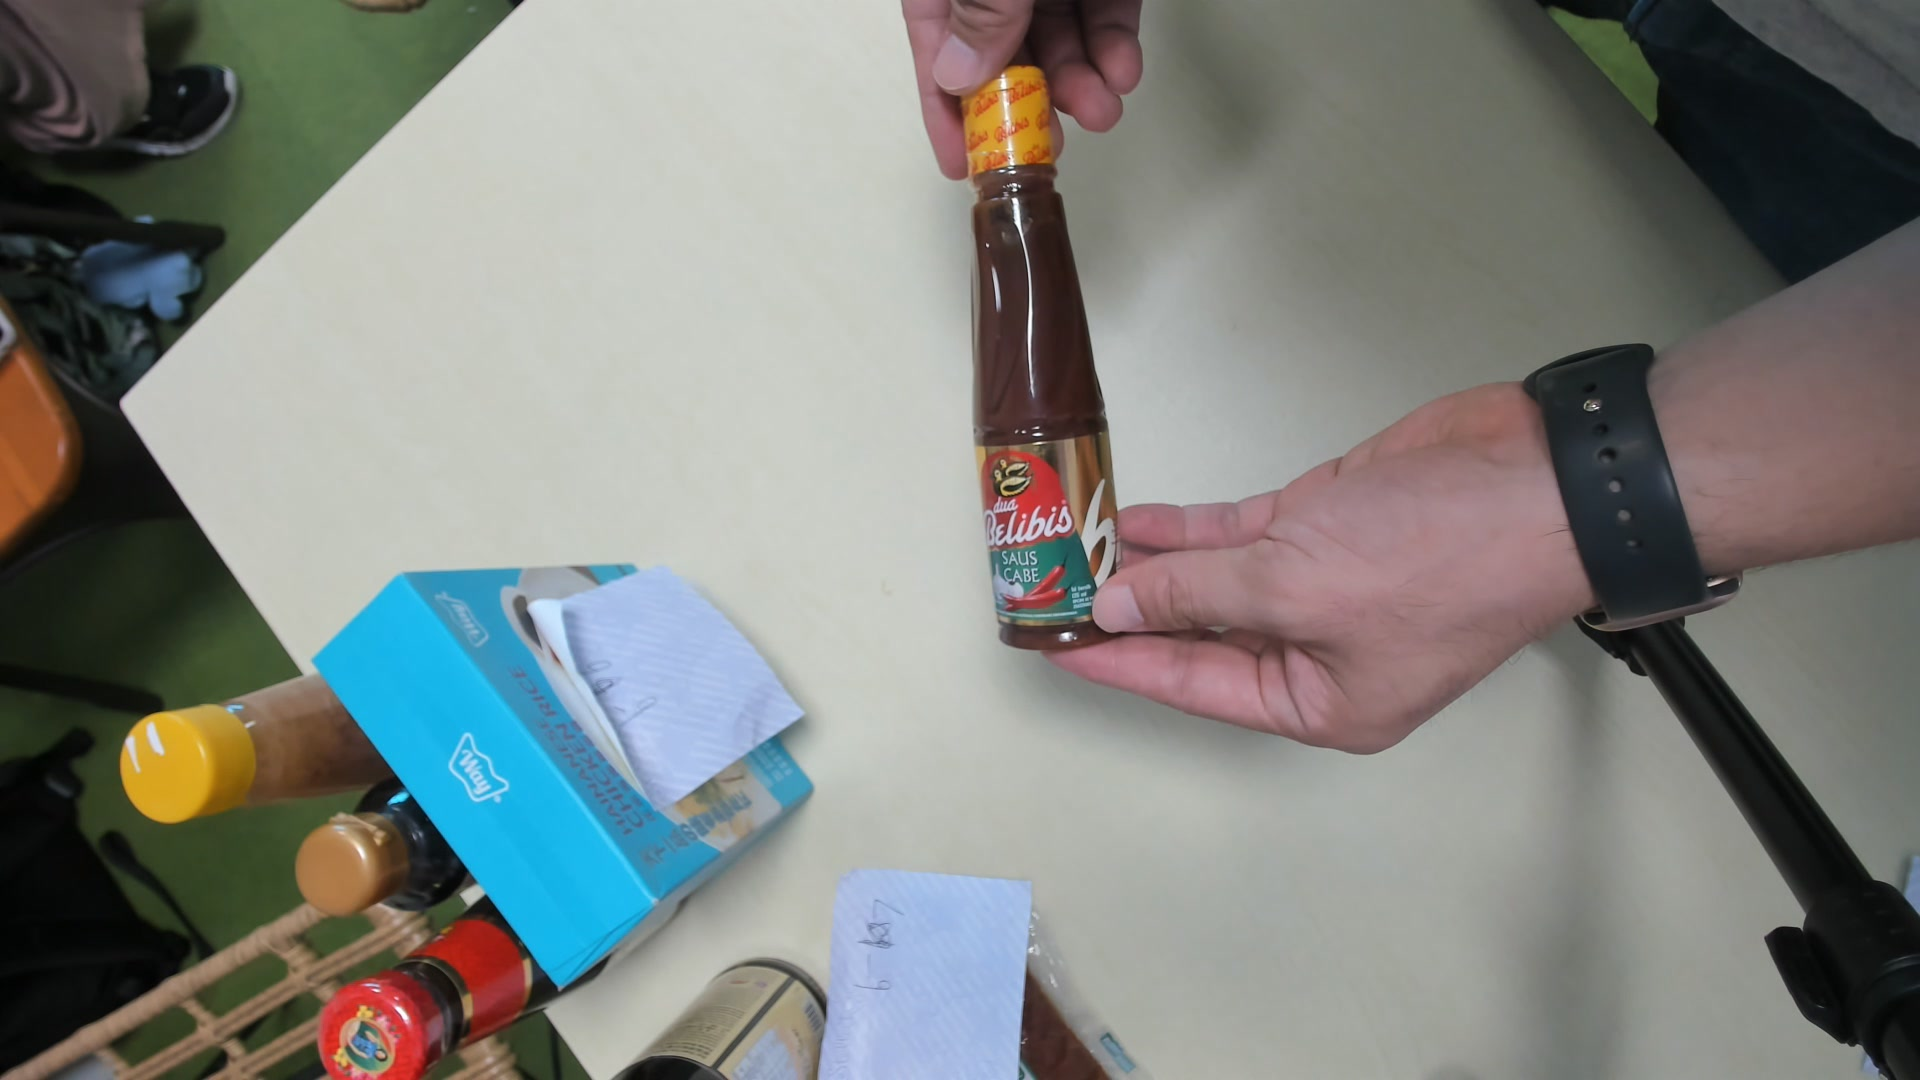KetchupChillSauce_100-199g_Halal_NonHealthy: (963, 55, 1125, 662)
